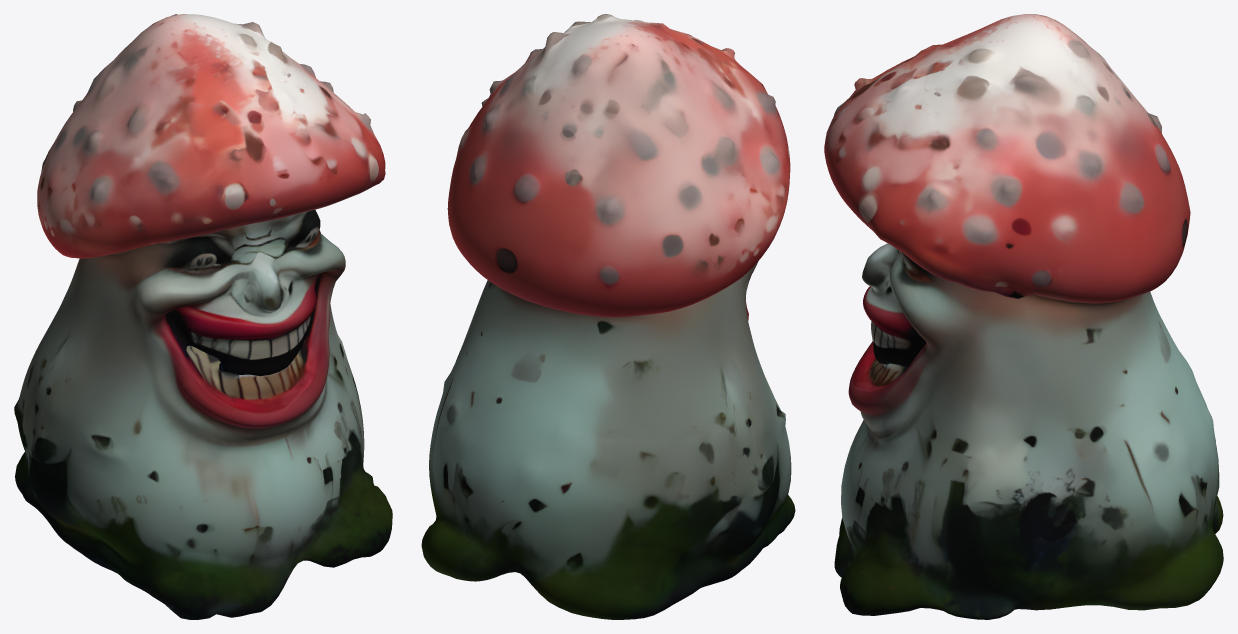
Rendered from base_basic_pbr.glb.
The picture shows the model from 3 angles, left to right: view 1: azimuth 30°, elevation 25°; view 2: azimuth 150°, elevation 25°; view 3: azimuth 270°, elevation 25°; orthographic projection. The views are drawn at different scales.
Visible parts, largest first — view 1: model; view 2: model; view 3: model.
Part boxes in pixels (x1=…): model: x1=14, y1=14, x2=392, y2=619; model: x1=421, y1=14, x2=795, y2=619; model: x1=824, y1=14, x2=1223, y2=619.
Size of the model in its own units: 1.15 by 1.89 by 1.21.
1 material, 1 textured.
